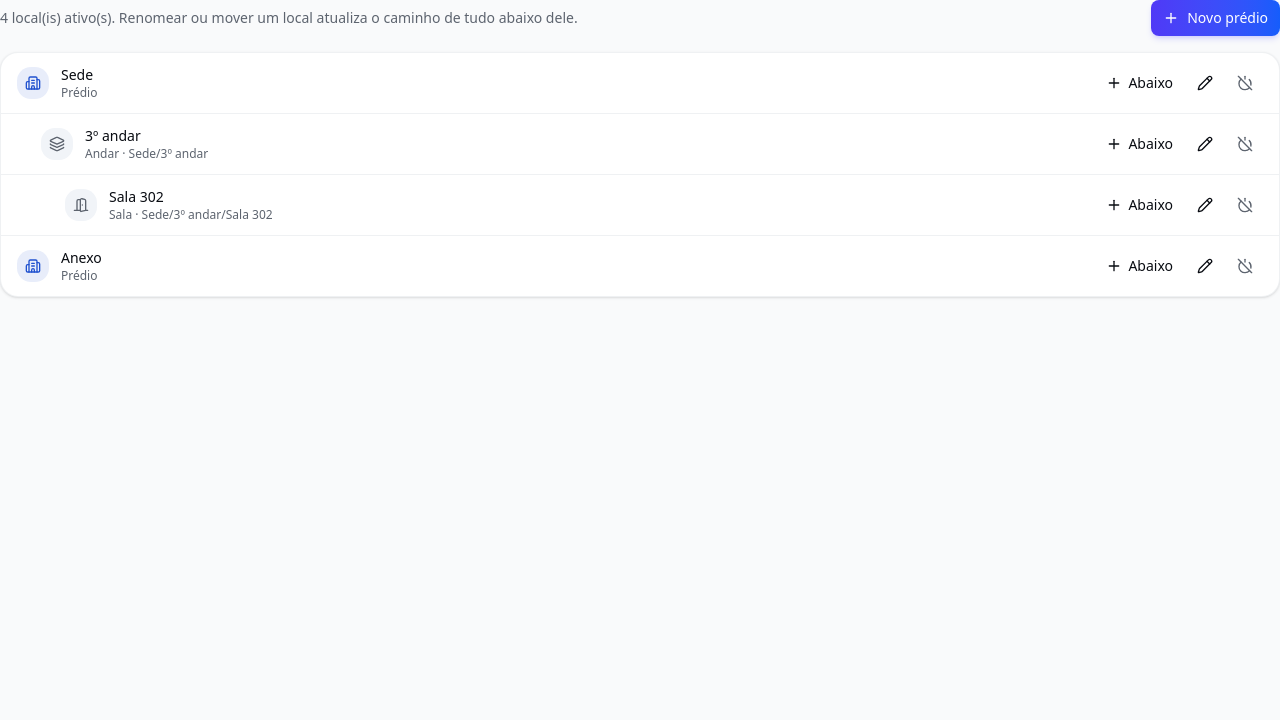
Test: GerirLocalizacoes › mostra o erro do servidor no diálogo, como o nome repetido
Click the button "Novo prédio". click: (1216, 18)
box: [1151,0,1279,36]
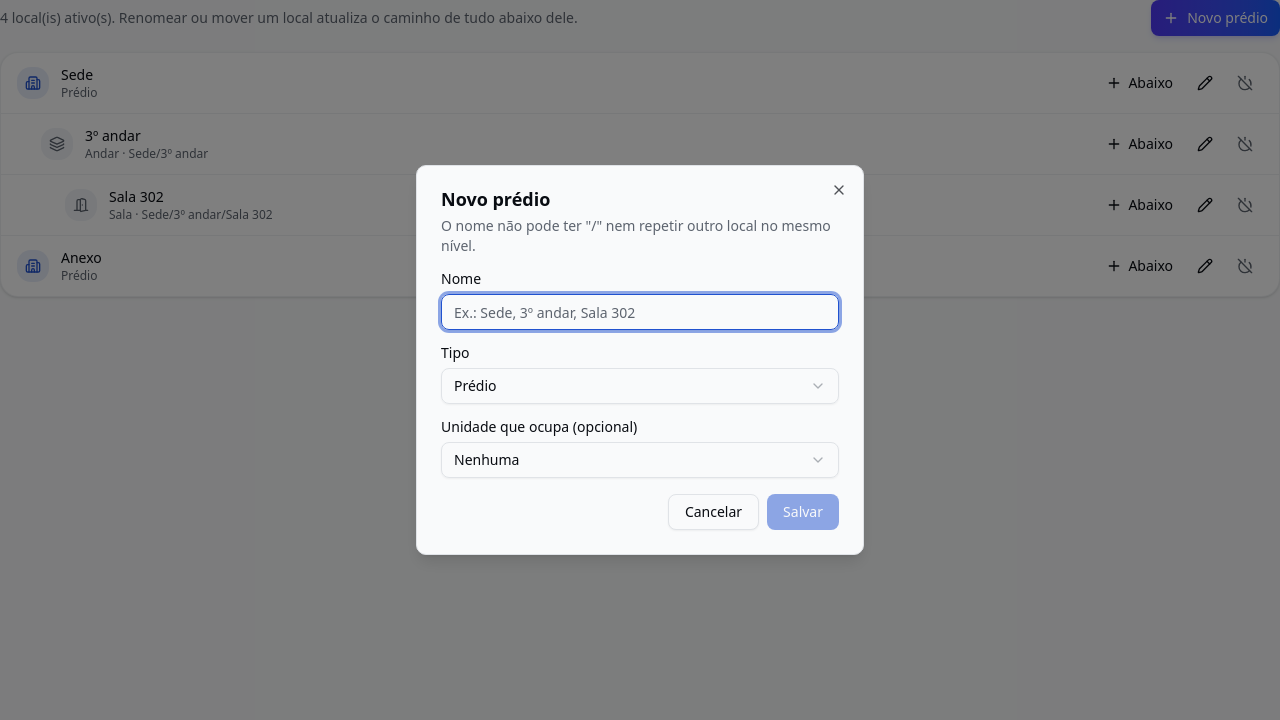
Type "SEDE" into the field labelled "Nome". click: (640, 312)
box: [441,294,839,330]
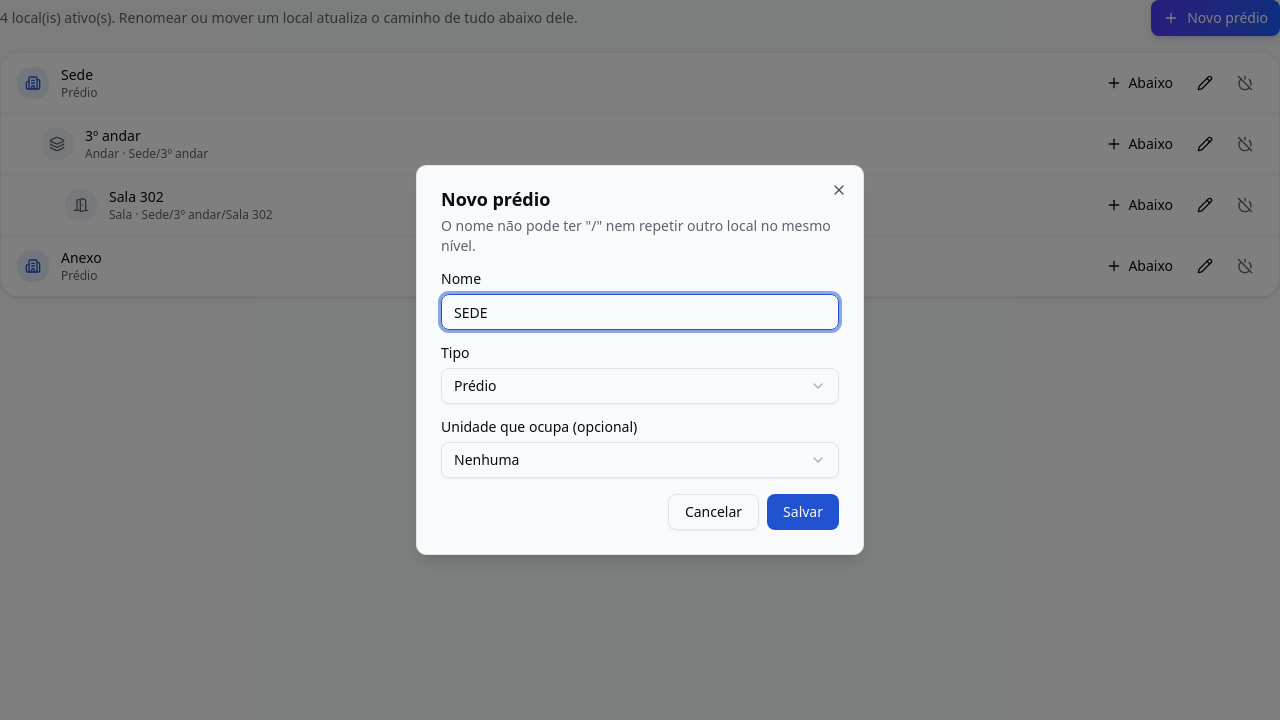
Click the button "Salvar". click: (803, 512)
box: [767,494,839,530]
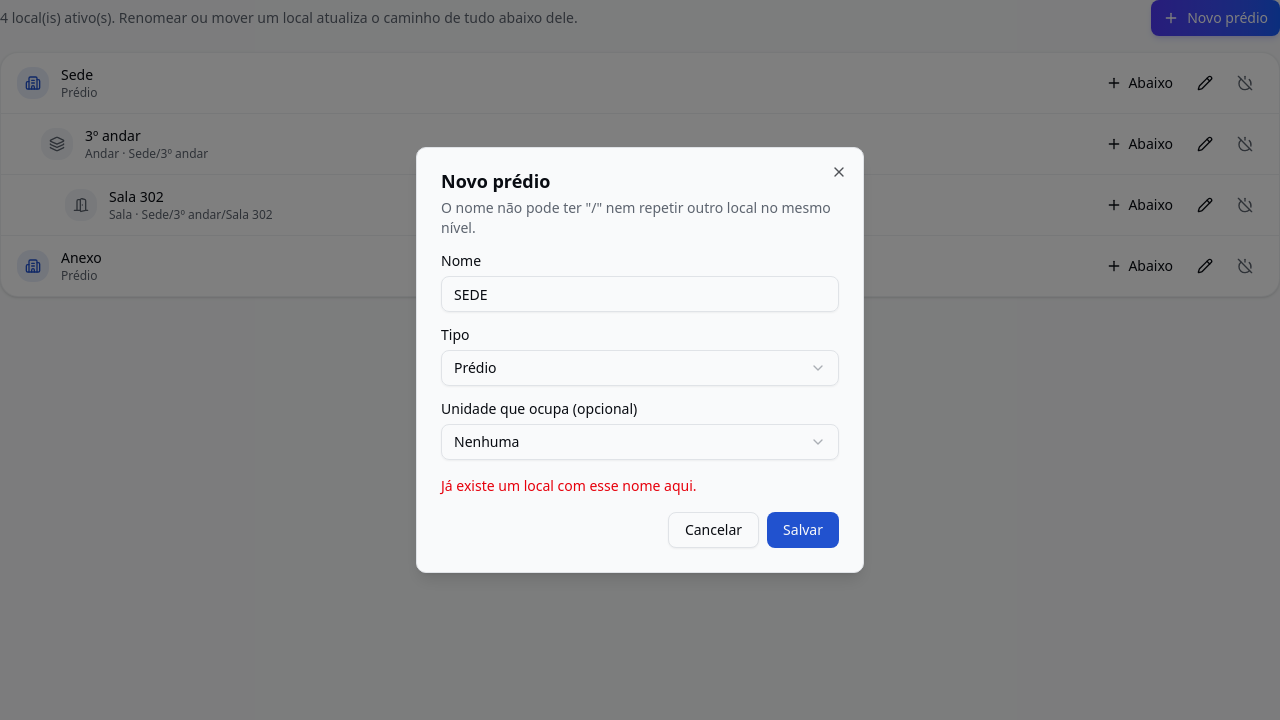
Expected: the message reads "Já existe um local com esse nome aqui.", [441,476,696,495]
